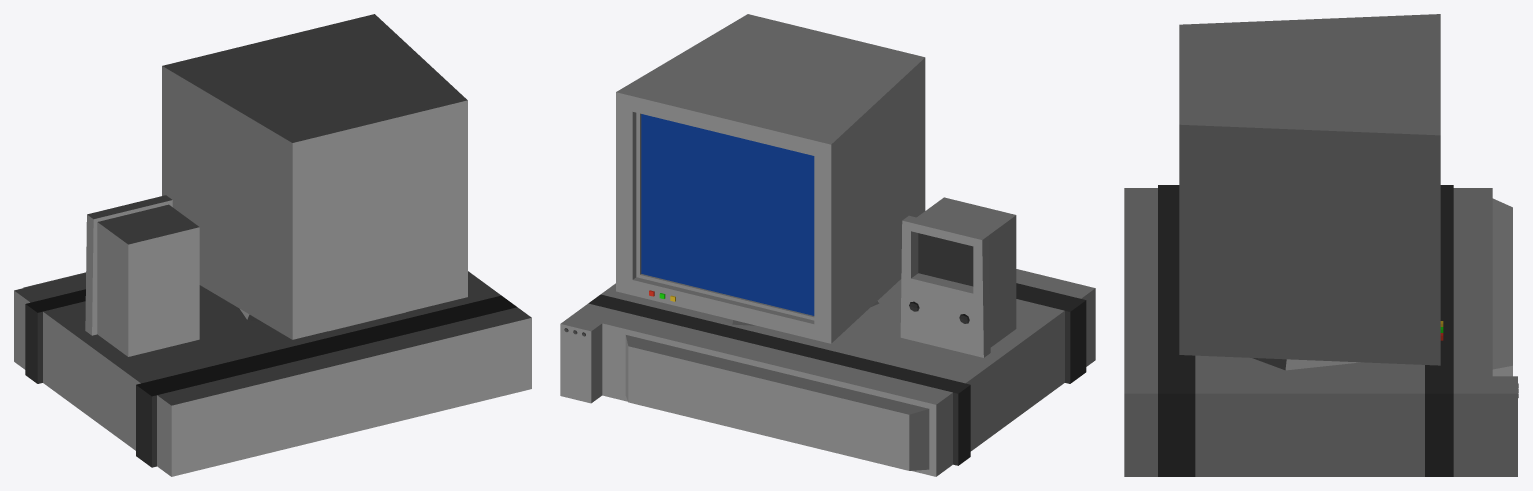
Rendered from Old Computer.fbx.
3 renders of one model, left to right at view 1: azimuth 30°, elevation 25°; view 2: azimuth 150°, elevation 25°; view 3: azimuth 270°, elevation 25°, orthographic. The views are drawn at different scales.
Parts seen in each view (by area): view 1: Node 0; view 2: Node 0; view 3: Node 0.
Part boxes in pixels (x1,y1,x2,y2): Node 0: [14, 14, 531, 476]; Node 0: [560, 14, 1095, 476]; Node 0: [1124, 14, 1518, 476].
Bounding box in the file's own units: 0.871 × 0.8016 × 1.09.
